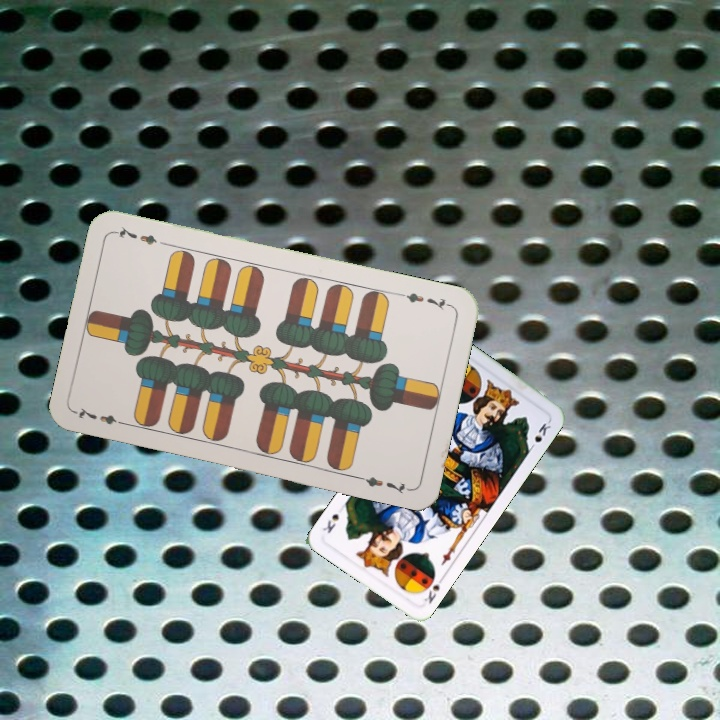E7: (72, 403, 131, 429), (396, 288, 454, 313)
SK: (420, 572, 447, 606)
